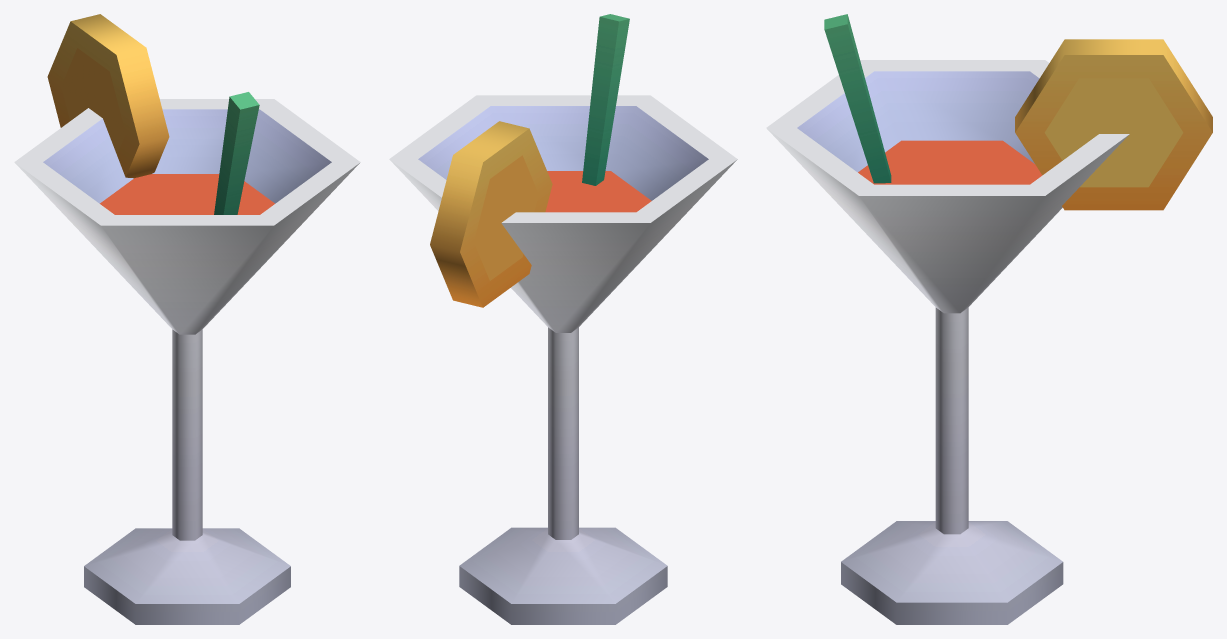
Rendered from kenney-food-cocktail.glb.
3 renders of one model, left to right at view 1: azimuth 30°, elevation 25°; view 2: azimuth 150°, elevation 25°; view 3: azimuth 270°, elevation 25°, orthographic. The views are drawn at different scales.
Visible parts, largest first — view 1: cocktail, lemon, straw; view 2: cocktail, lemon, straw; view 3: cocktail, lemon, straw.
Part boxes in pixels (x1,y1,x2,y2): cocktail: (14, 99, 360, 624); lemon: (47, 14, 169, 178); straw: (214, 92, 259, 214); cocktail: (389, 95, 737, 624); lemon: (430, 121, 552, 307); straw: (582, 14, 629, 185); cocktail: (766, 60, 1129, 624); lemon: (1015, 39, 1212, 210); straw: (824, 14, 891, 183).
Bounding box in the file's own units: 0.2607 × 0.5059 × 0.3615.
Materials: 1 (1 with a texture image).
